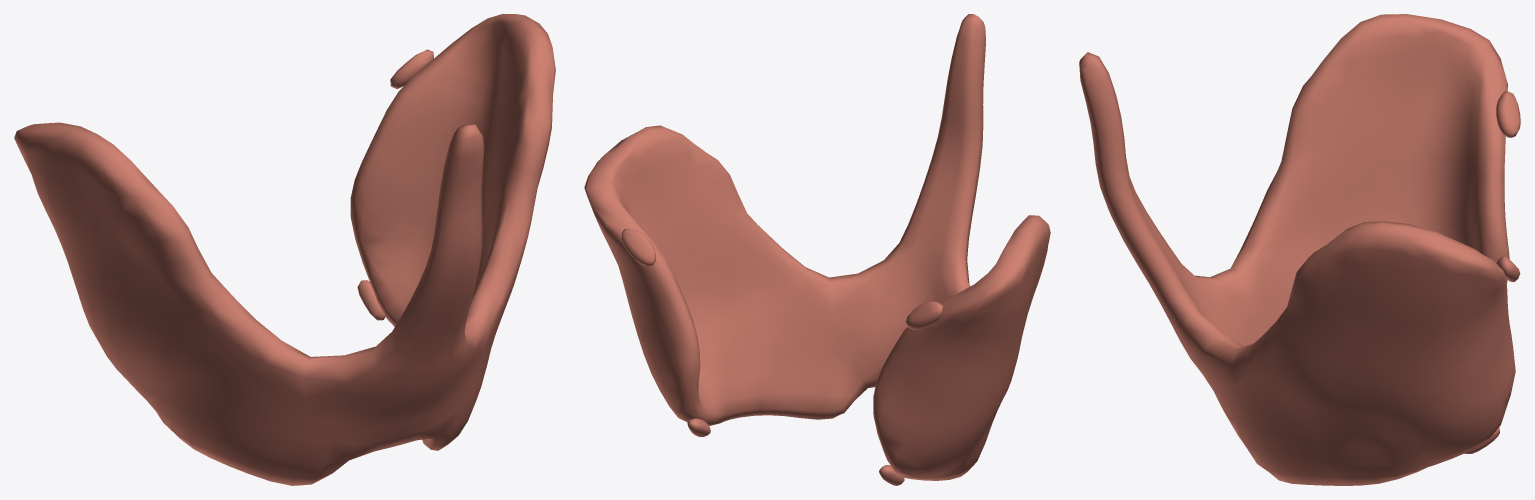
File: endocrine.neck.glb
3 renders of one model, left to right at view 1: azimuth 30°, elevation 25°; view 2: azimuth 150°, elevation 25°; view 3: azimuth 270°, elevation 25°, orthographic. The views are drawn at different scales.
Visible parts, largest first — view 1: thyroid_gland, left_superior_parathyroid_gland, left_inferior_parathyroid_gland; view 2: thyroid_gland, left_superior_parathyroid_gland, right_superior_parathyroid_gland; view 3: thyroid_gland, right_superior_parathyroid_gland.
Boxes of the visible parts, x1,y1,x2,y2 form: thyroid_gland: (14,14,555,485); left_superior_parathyroid_gland: (390,49,433,88); left_inferior_parathyroid_gland: (357,280,385,320); thyroid_gland: (584,14,1050,480); left_superior_parathyroid_gland: (621,229,655,265); right_superior_parathyroid_gland: (906,301,943,329); thyroid_gland: (1079,14,1515,485); right_superior_parathyroid_gland: (1496,91,1520,137).
Bounding box in the file's own units: 0.0465 × 0.0369 × 0.0378.
